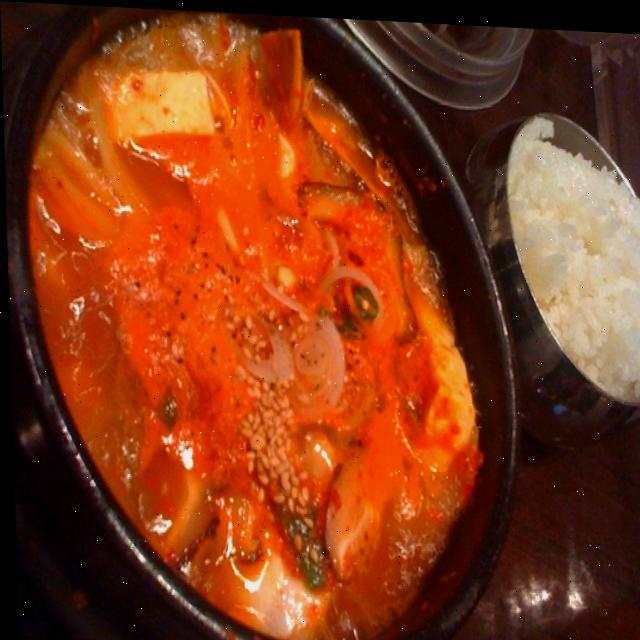汤锅炖物: (5, 18, 521, 640)
